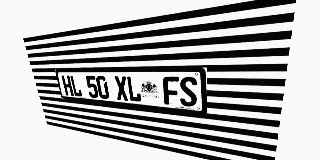0: (95, 76, 110, 99)
5: (85, 76, 99, 98)
F: (162, 76, 180, 106)
H: (61, 75, 74, 96)
L: (126, 76, 142, 102), (69, 75, 82, 97)
S: (179, 77, 197, 107)
X: (114, 76, 129, 101)
